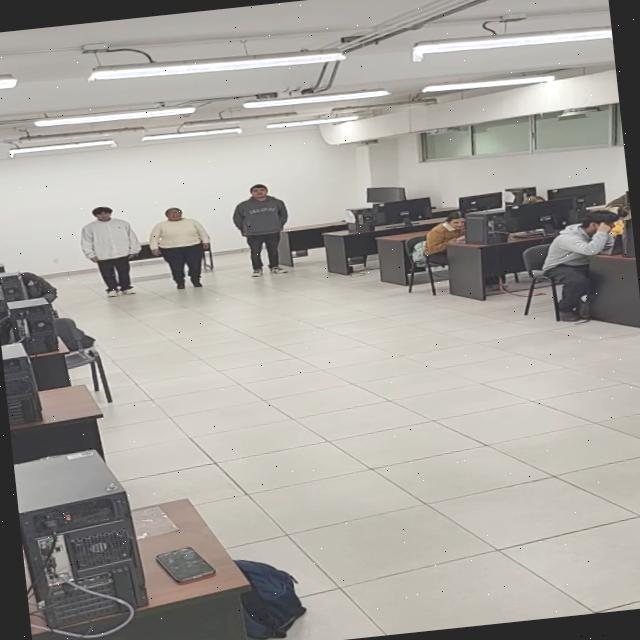Persona: (78, 202, 147, 300), (228, 180, 294, 278), (146, 202, 216, 292)
